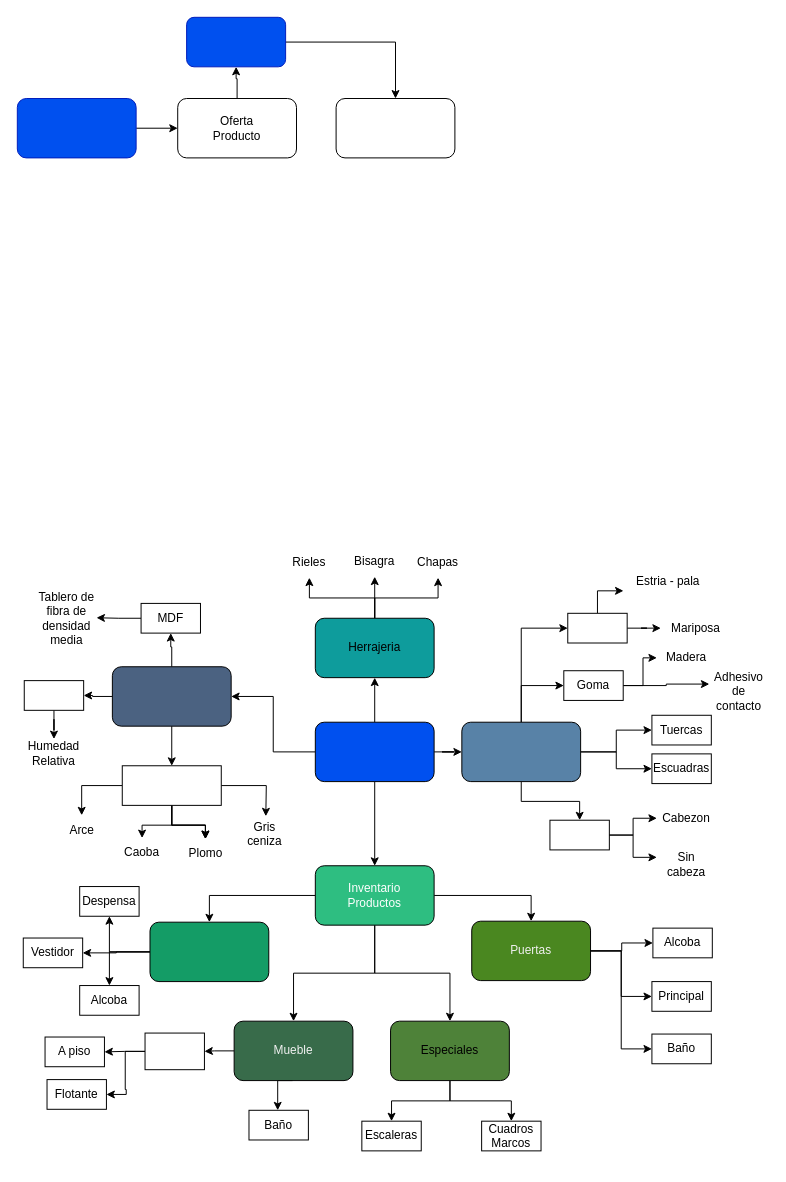
Image size: 786x1182. Some labels were removed from this diagram. Each missing label, with the centre of its shape:
"Clavos" goes at point (579, 834).
"Cliente" goes at point (236, 41).
"Closets" goes at point (209, 951).
"Cocina" goes at point (174, 1051).
"Colores" goes at point (171, 785).
"Elementos de sujecion" goes at point (521, 751).
"Inventario materias primas" goes at point (374, 751).
"Maderas" goes at point (171, 696).
"RH" goes at point (53, 695).
"Soluciones Mobiliarias MB" goes at point (76, 128).
"Tornillos" goes at point (597, 627).
